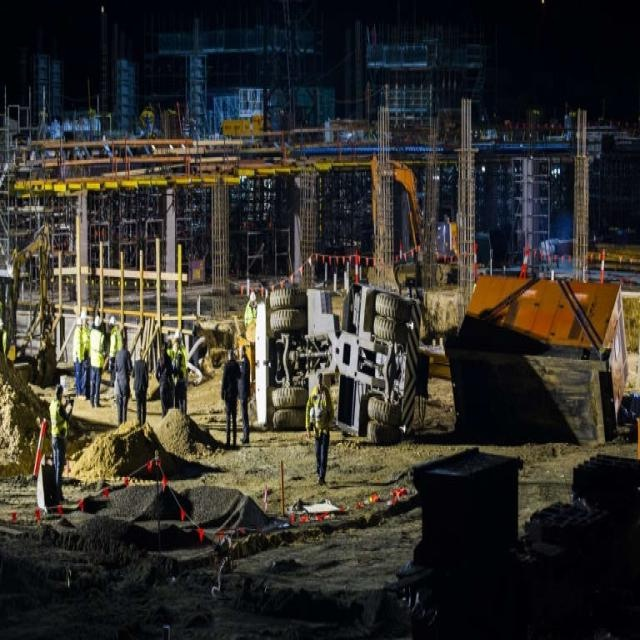Con_Chaleco: (49, 399, 67, 436), (89, 328, 104, 369)
